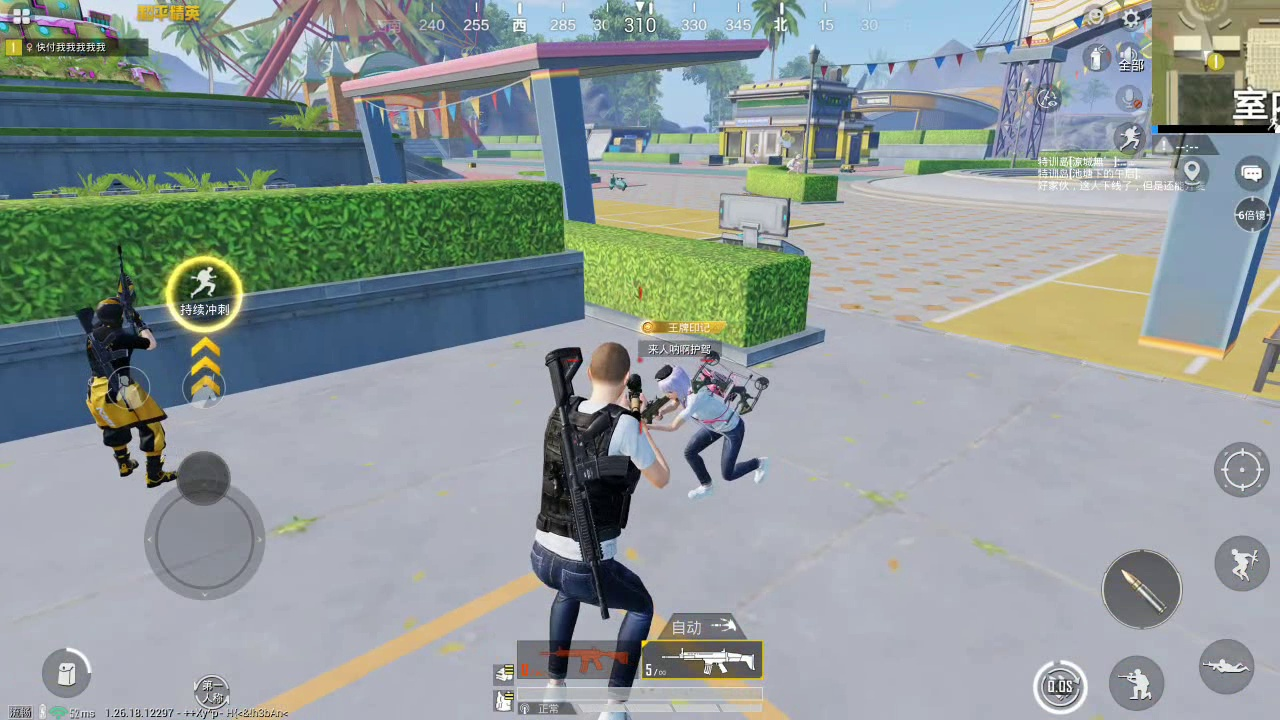enemy: (83, 295, 178, 484), (653, 362, 763, 489), (784, 152, 806, 173)
